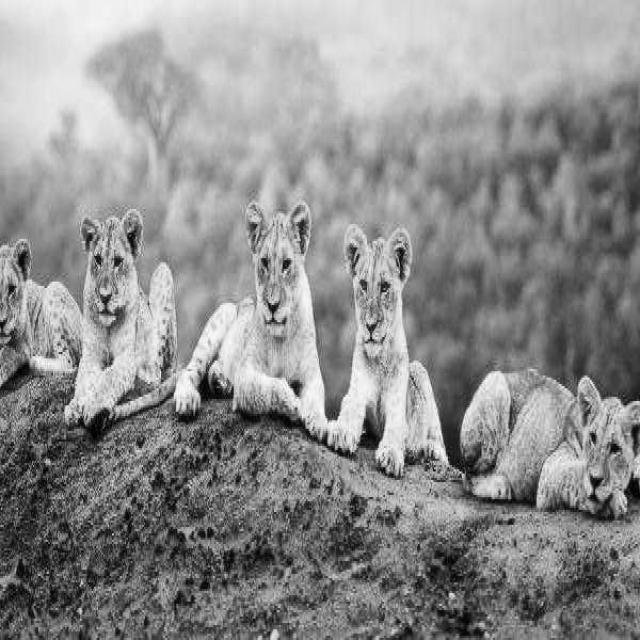Lion: (60, 187, 174, 416), (198, 142, 314, 363), (340, 211, 430, 471), (511, 340, 636, 525)
